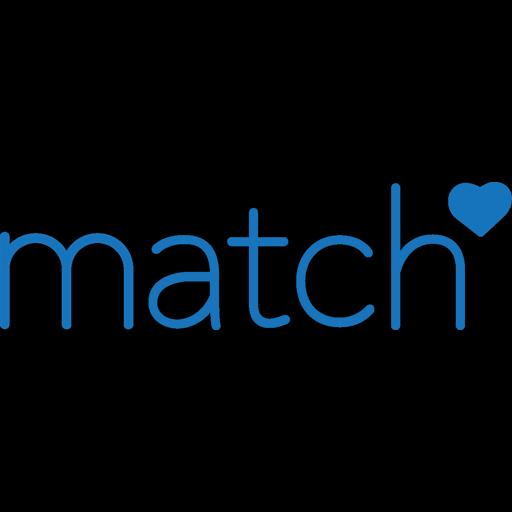Match: (0, 182, 512, 330)
